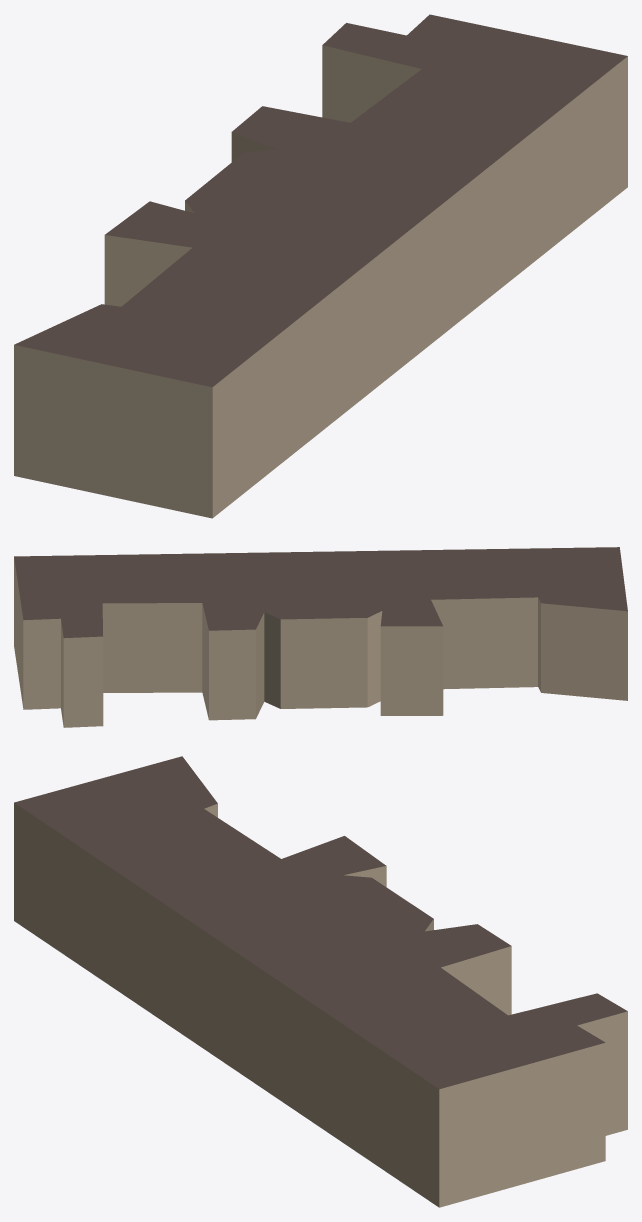
3 renders of one model, top to bottom at view 1: azimuth 30°, elevation 25°; view 2: azimuth 150°, elevation 25°; view 3: azimuth 270°, elevation 25°, orthographic. The views are drawn at different scales.
Parts seen in each view (by area): view 1: HP-w1516161947; view 2: HP-w1516161947; view 3: HP-w1516161947.
Boxes of the visible parts, x1,y1,x2,y2 form: HP-w1516161947: (14,14,627,518); HP-w1516161947: (14,547,627,727); HP-w1516161947: (14,756,627,1207).
Size of the model in its own units: 54.29 by 9 by 42.29.
